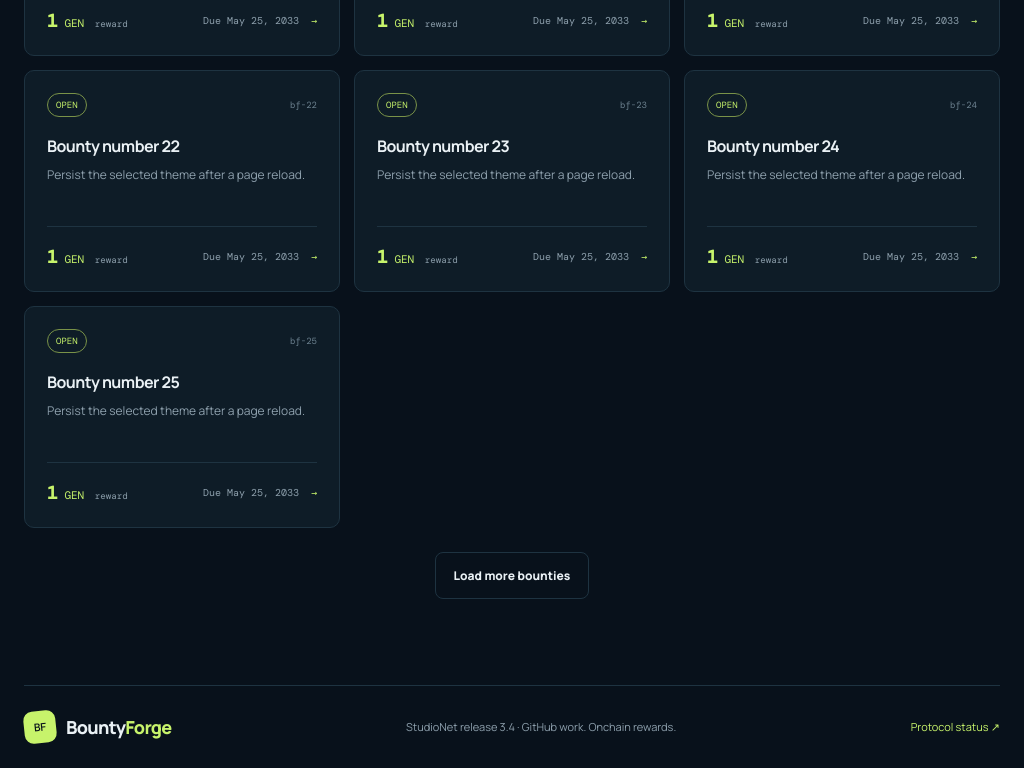
it: discovery and wallet state › loads bounties past the first 25
(page scrolled)
Click the button "Load more bounties".
click(512, 575)  # box [435,552,590,599]
(page scrolled)
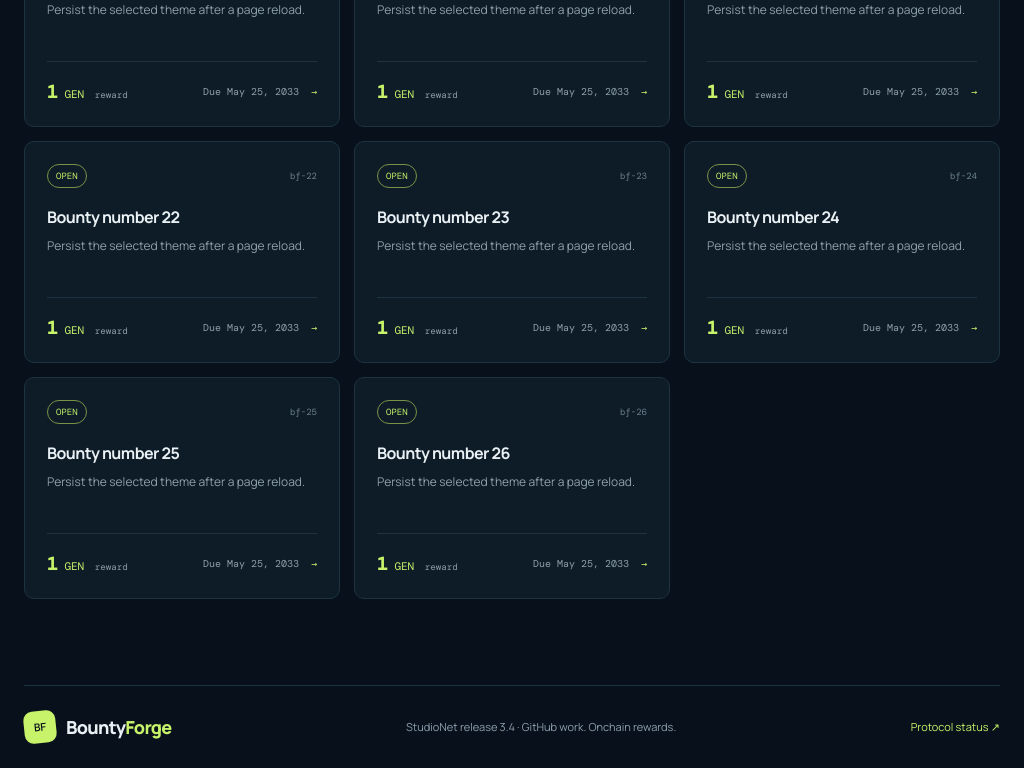
Expected: the link "Bounty number 26" is shown, [354,377,670,599]
Expected: the button "Load more bounties" is gone
